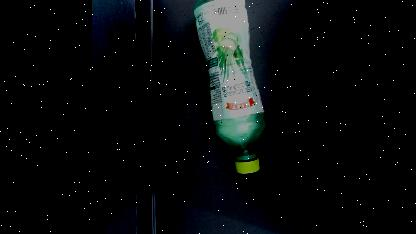Plastic Bottle: (192, 0, 264, 174)
